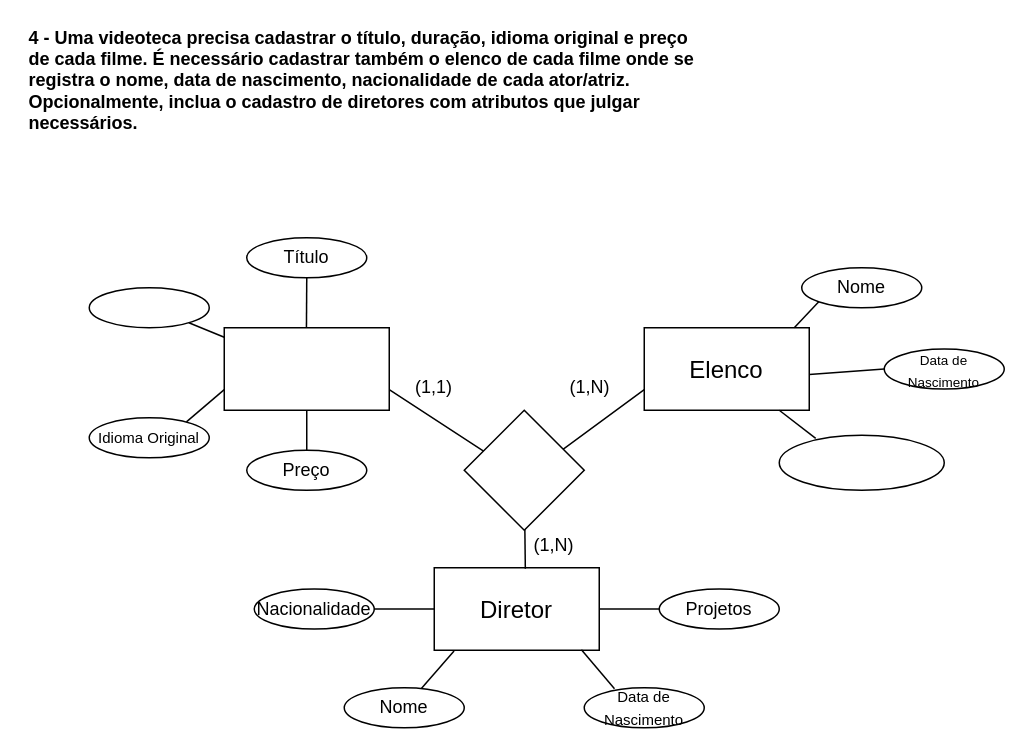
Some shapes in this 1031 by 755 pixel diagram are drawn without their labels. Here are the shapes that lost their labels. From the top down, the centre of each, then its label:
At (148,307): "Duração".
At (306,368): "Filme".
At (523,469): "Tem".
At (861,462): "Nacionalidade Ator / Atriz".
